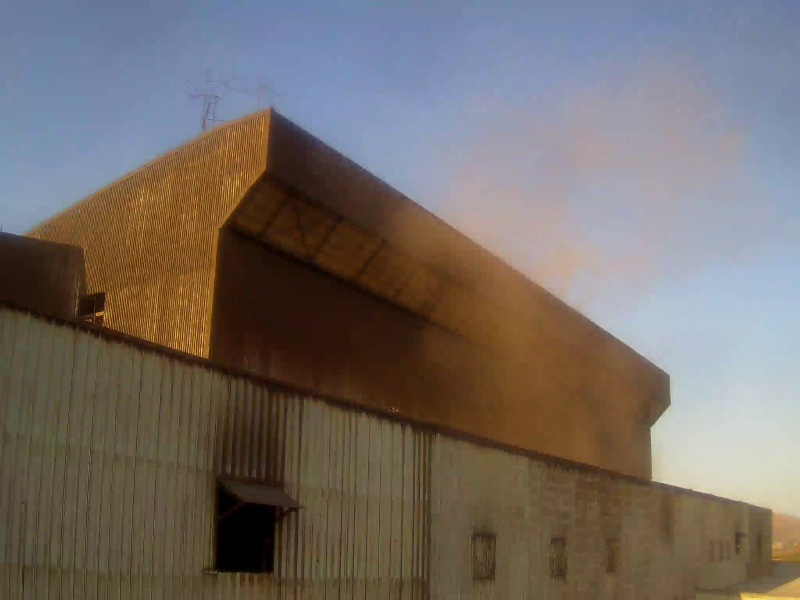bom: (31, 4, 291, 155)
pessimo: (429, 20, 741, 473)
